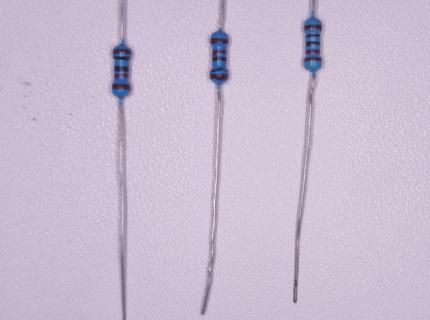Black band: (114, 66, 129, 72), (210, 67, 227, 72), (306, 41, 320, 46), (212, 57, 226, 62), (113, 56, 130, 60), (306, 35, 320, 38)
Brown band: (113, 84, 130, 91), (113, 49, 131, 55), (210, 74, 228, 80), (211, 38, 229, 44), (304, 24, 321, 30), (304, 57, 322, 62)
Red band: (212, 50, 226, 55), (114, 74, 129, 78), (306, 50, 320, 54)
